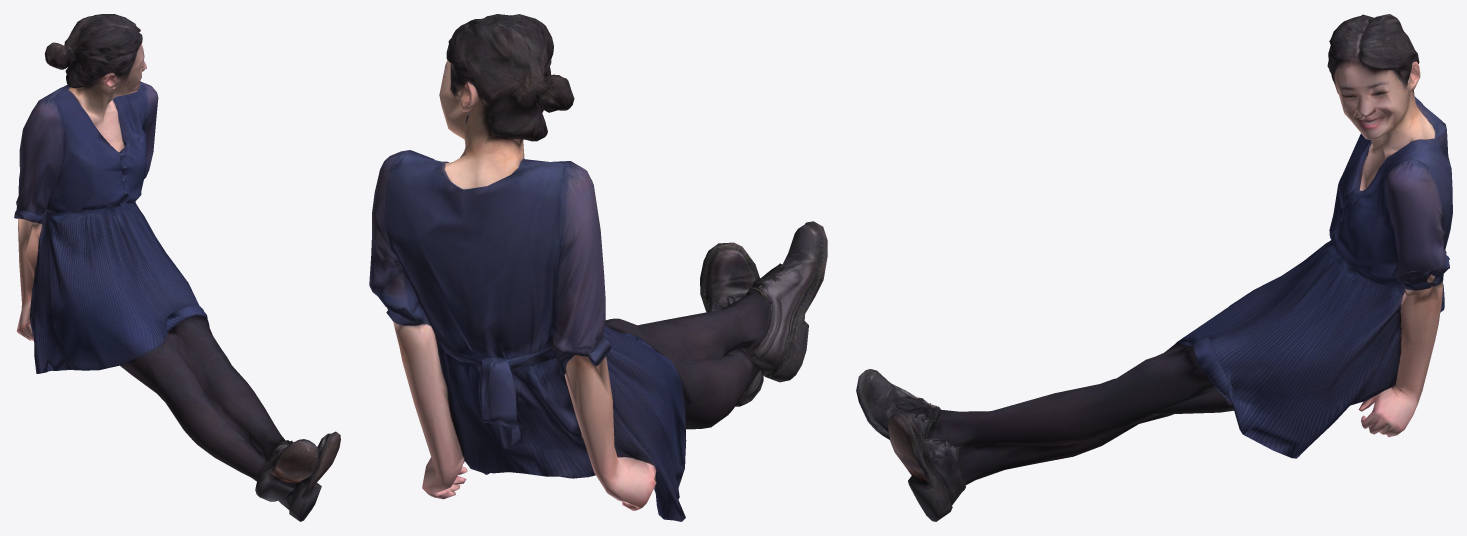
Rendered from seated-scan-1.glb.
The picture shows the model from 3 angles, left to right: view 1: azimuth 30°, elevation 25°; view 2: azimuth 150°, elevation 25°; view 3: azimuth 270°, elevation 25°; orthographic projection. The views are drawn at different scales.
Visible parts, largest first — view 1: seated-scan-1; view 2: seated-scan-1; view 3: seated-scan-1.
Part boxes in pixels (x1=…): seated-scan-1: x1=14, y1=14, x2=340, y2=521; seated-scan-1: x1=369, y1=14, x2=827, y2=521; seated-scan-1: x1=856, y1=14, x2=1452, y2=521.
Bounding box in the file's own units: 0.5126 × 1.19 × 1.33.
1 material, 1 textured.
